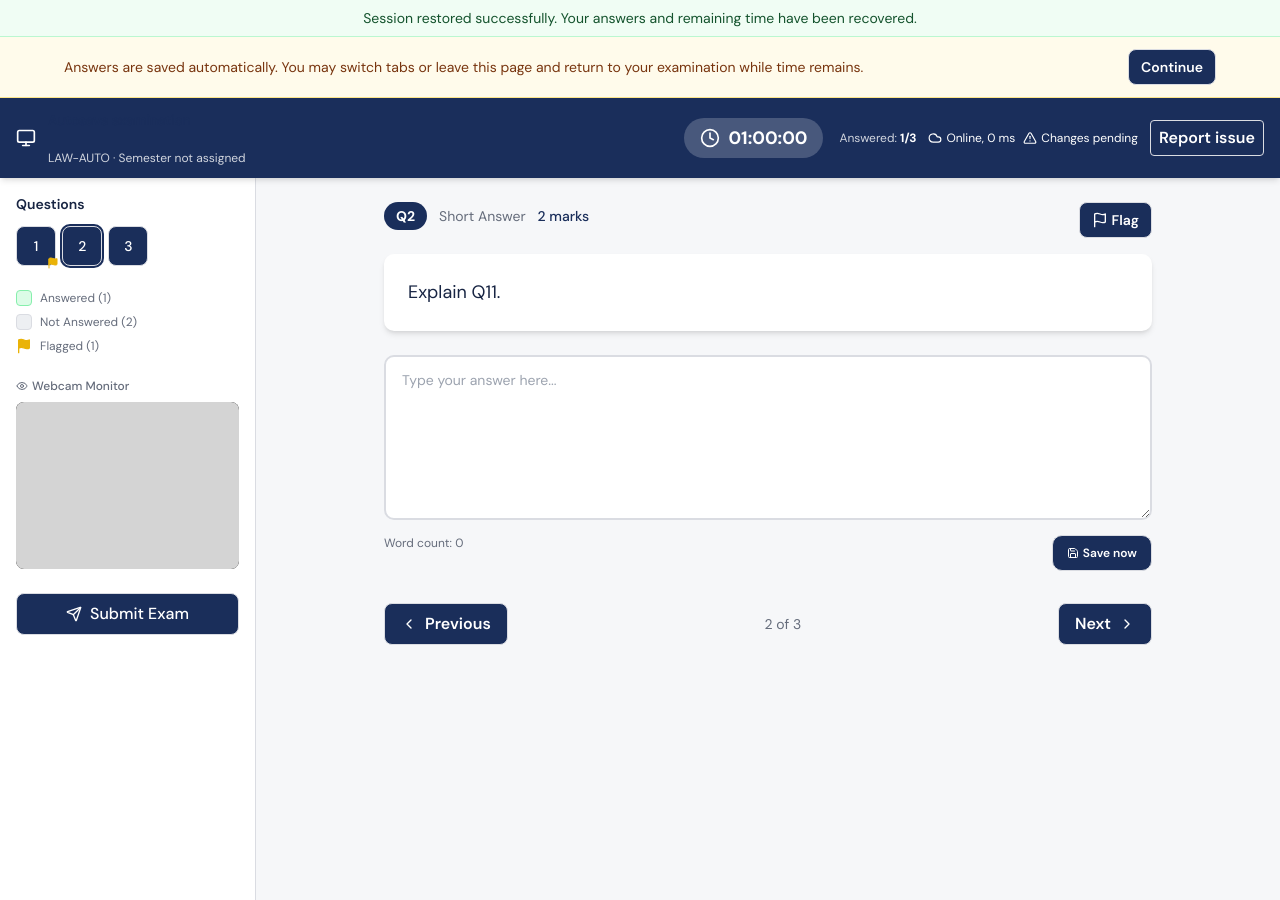
IT-06 — response autosave, word count, and version history › rehydrates the local answer and selected question after the server snapshot loads
Expected: the text box named "Response for question 2" is shown, 384,355 -> 1152,520
Click the button named "Question 1" at (36, 246), box 16,226 -> 56,266
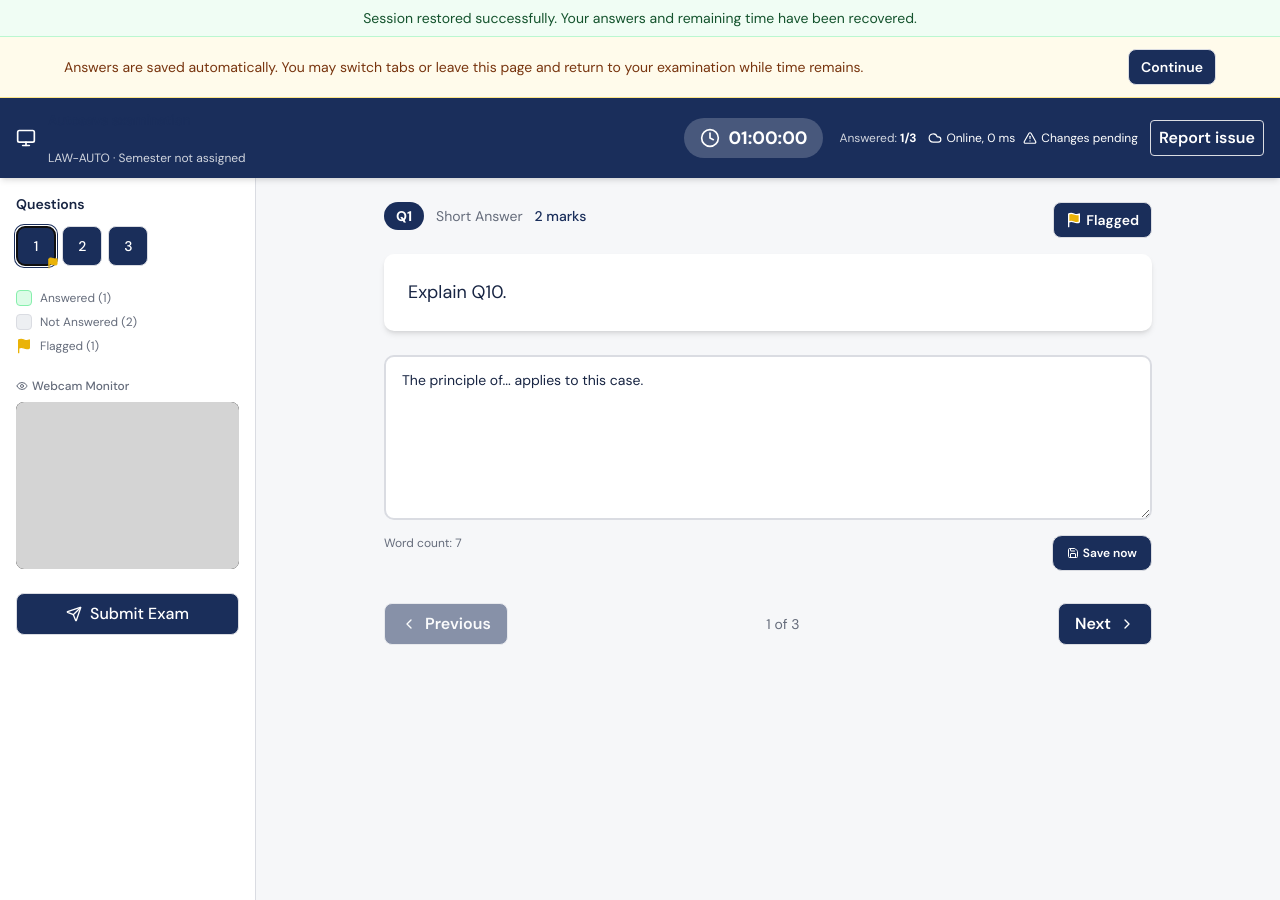
Expected: the text box named "Response for question 1" holds "The principle of... applies to this case.", 384,355 -> 1152,520
